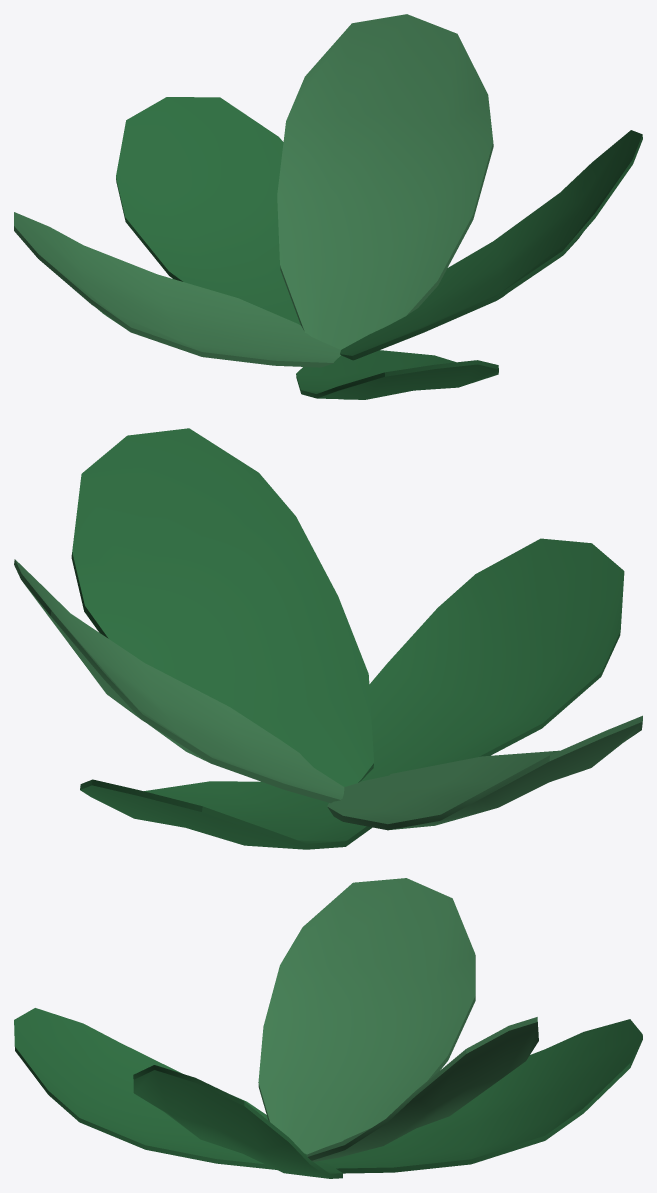
The model's file is Grass.fbx.
The picture shows the model from 3 angles, top to bottom: view 1: azimuth 30°, elevation 25°; view 2: azimuth 150°, elevation 25°; view 3: azimuth 270°, elevation 25°; orthographic projection. The views are drawn at different scales.
Parts seen in each view (by area): view 1: Grass; view 2: Grass; view 3: Grass.
Part boxes in pixels (x1,y1,x2,y2): Grass: (14, 14, 642, 399); Grass: (14, 428, 642, 849); Grass: (14, 878, 642, 1178).
Size of the model in its own units: 141 by 56.68 by 149.
